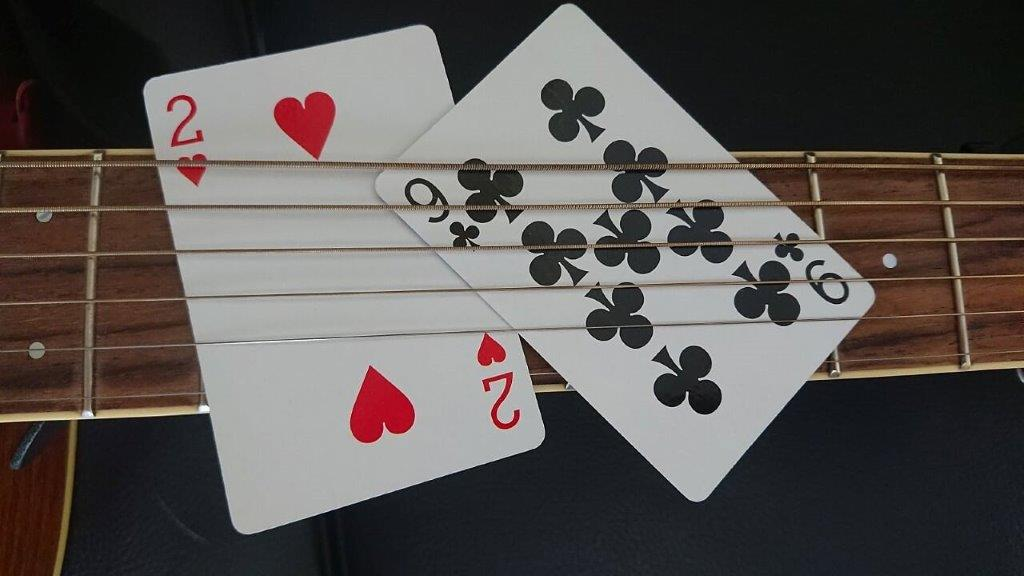2H: (160, 91, 212, 190)
9C: (397, 172, 483, 257)
